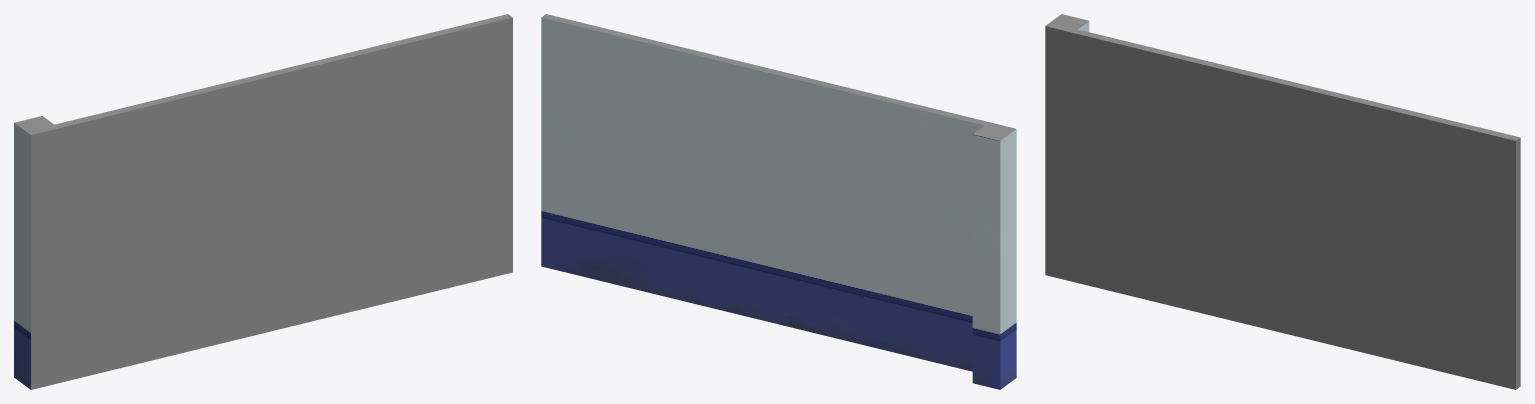
Rendered from Wall 3.FBX.
3 views of the same model, side by side, from view 1: azimuth 30°, elevation 25°; view 2: azimuth 150°, elevation 25°; view 3: azimuth 330°, elevation 25° (orthographic). The views are drawn at different scales.
Visible parts, largest first — view 1: wall 3; view 2: wall 3; view 3: wall 3.
Part boxes in pixels (x1,y1,x2,y2): wall 3: [14, 14, 512, 389]; wall 3: [541, 14, 1016, 389]; wall 3: [1045, 14, 1520, 389].
Bounding box in the file's own units: 517 × 261 × 31.47.
